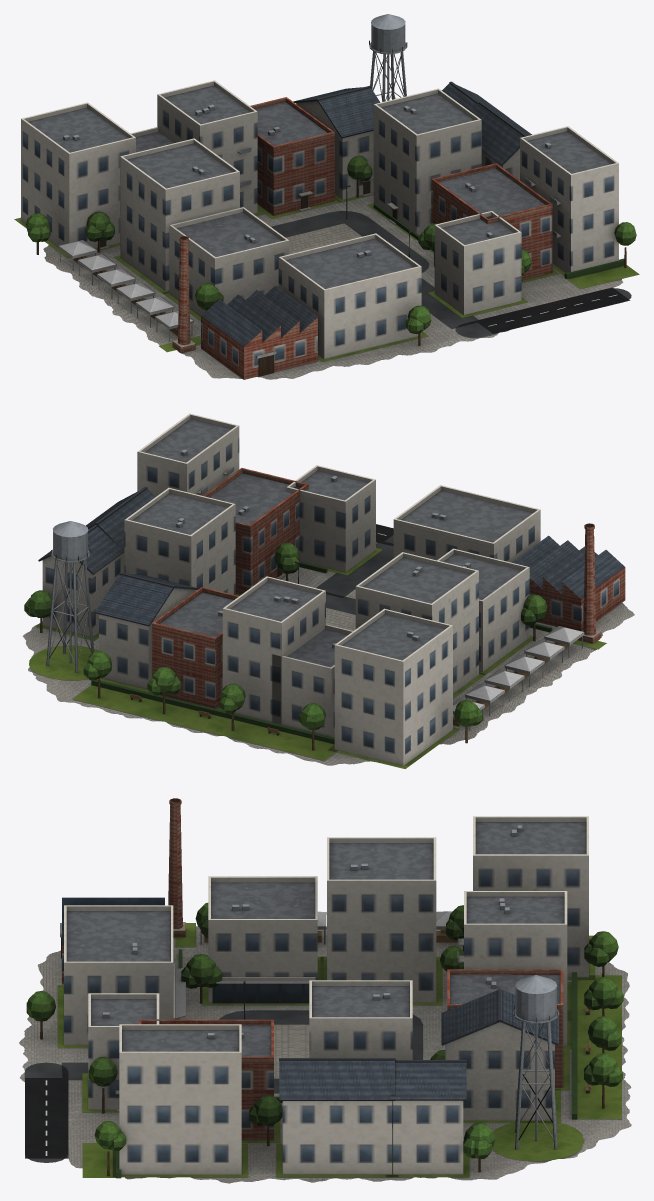
File: modern-town-medium-b.glb
The picture shows the model from 3 angles, top to bottom: view 1: azimuth 30°, elevation 25°; view 2: azimuth 150°, elevation 25°; view 3: azimuth 270°, elevation 25°; orthographic projection. The views are drawn at different scales.
Parts seen in each view (by area): view 1: LOD0; view 2: LOD0; view 3: LOD0.
Part boxes in pixels (x1=…): LOD0: x1=14, y1=14, x2=639, y2=379; LOD0: x1=22, y1=413, x2=634, y2=768; LOD0: x1=19, y1=798, x2=631, y2=1183.
Size of what is drawn, in the model's own units: 6.08 by 1.8 by 6.07.
Materials: 3 (3 with a texture image).
